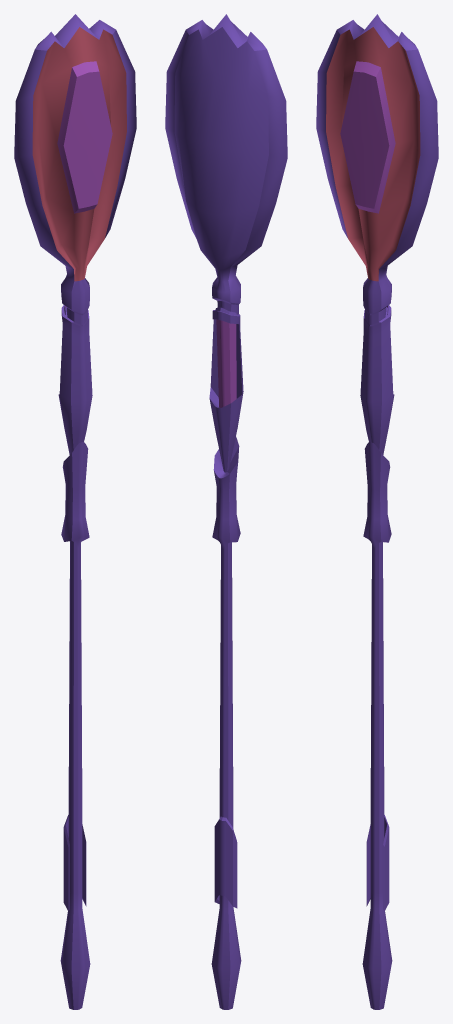
Rendered from Guard_Staff.fbx.
The picture shows the model from 3 angles, left to right: view 1: azimuth 30°, elevation 25°; view 2: azimuth 150°, elevation 25°; view 3: azimuth 330°, elevation 25°; orthographic projection.
Parts seen in each view (by area): view 1: pCube4; view 2: pCube4; view 3: pCube4.
Boxes of the visible parts, x1,y1,x2,y2 form: pCube4: [14, 14, 136, 1009]; pCube4: [165, 14, 287, 1009]; pCube4: [316, 14, 438, 1009].
Size of the model in its own units: 33.46 by 259 by 15.
